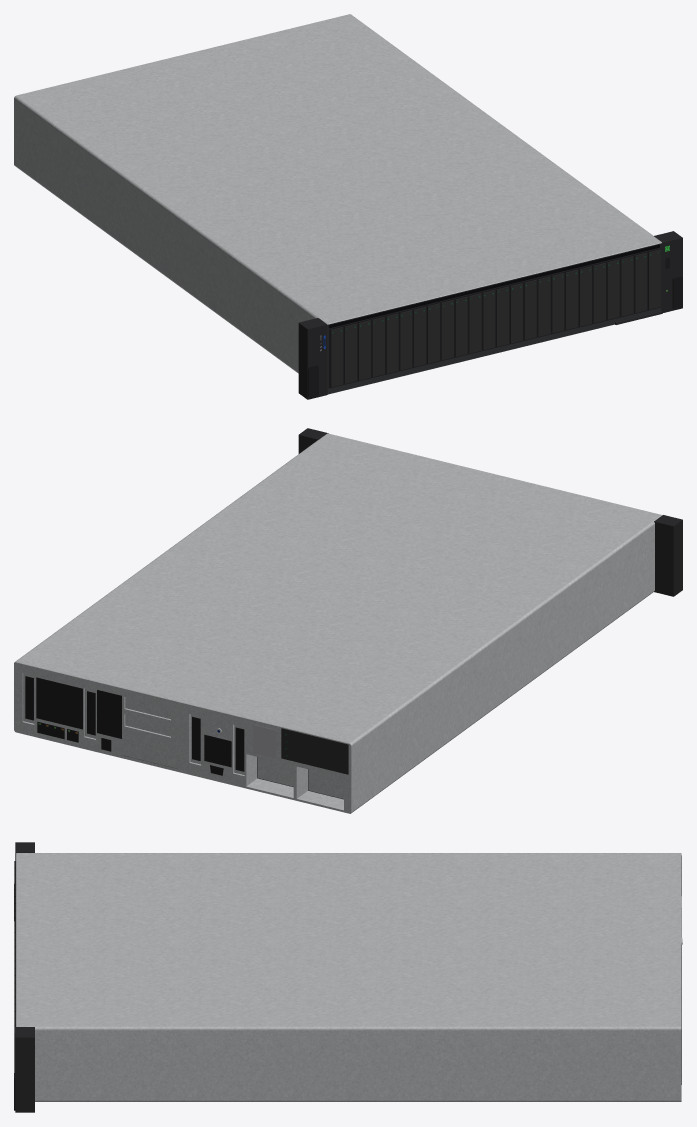
The model's file is R750xs.far.glb.
The picture shows the model from 3 angles, top to bottom: view 1: azimuth 30°, elevation 25°; view 2: azimuth 150°, elevation 25°; view 3: azimuth 270°, elevation 25°; orthographic projection. The views are drawn at different scales.
Parts seen in each view (by area): view 1: Shell_far; view 2: Shell_far, empty:PSU-2, empty:PSU-1, empty:NUMA 0 - OCP slot 1, empty:NUMA 1 - PCIe slot 5 - FH; view 3: Shell_far.
Part boxes in pixels (box(x1,y1,x2,y2)): Shell_far: box(14, 14, 682, 399); Shell_far: box(14, 428, 682, 813); empty:PSU-2: box(308, 769, 343, 798); empty:PSU-1: box(258, 757, 293, 786); empty:NUMA 0 - OCP slot 1: box(121, 742, 177, 768); empty:NUMA 1 - PCIe slot 5 - FH: box(190, 714, 201, 764); Shell_far: box(14, 842, 682, 1112).
Size of the model in its own units: 0.482 by 0.0868 by 0.6984.
3 materials, 2 textured.
